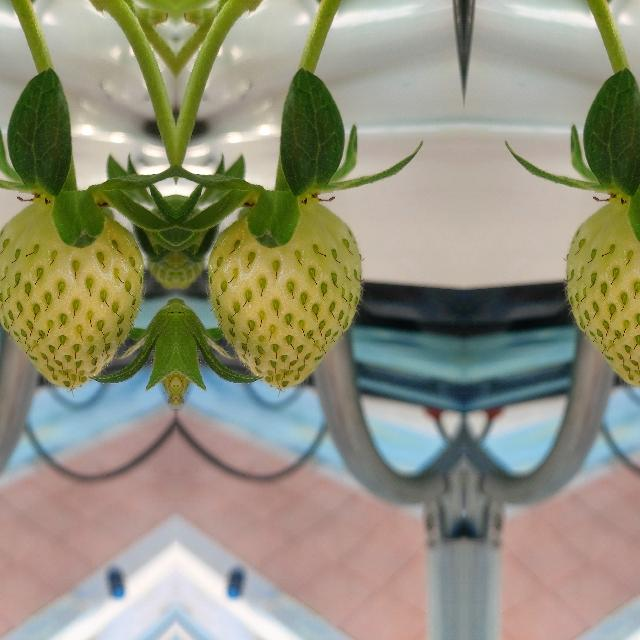Health_25: (203, 200, 363, 396), (0, 200, 147, 396), (563, 200, 640, 396)
